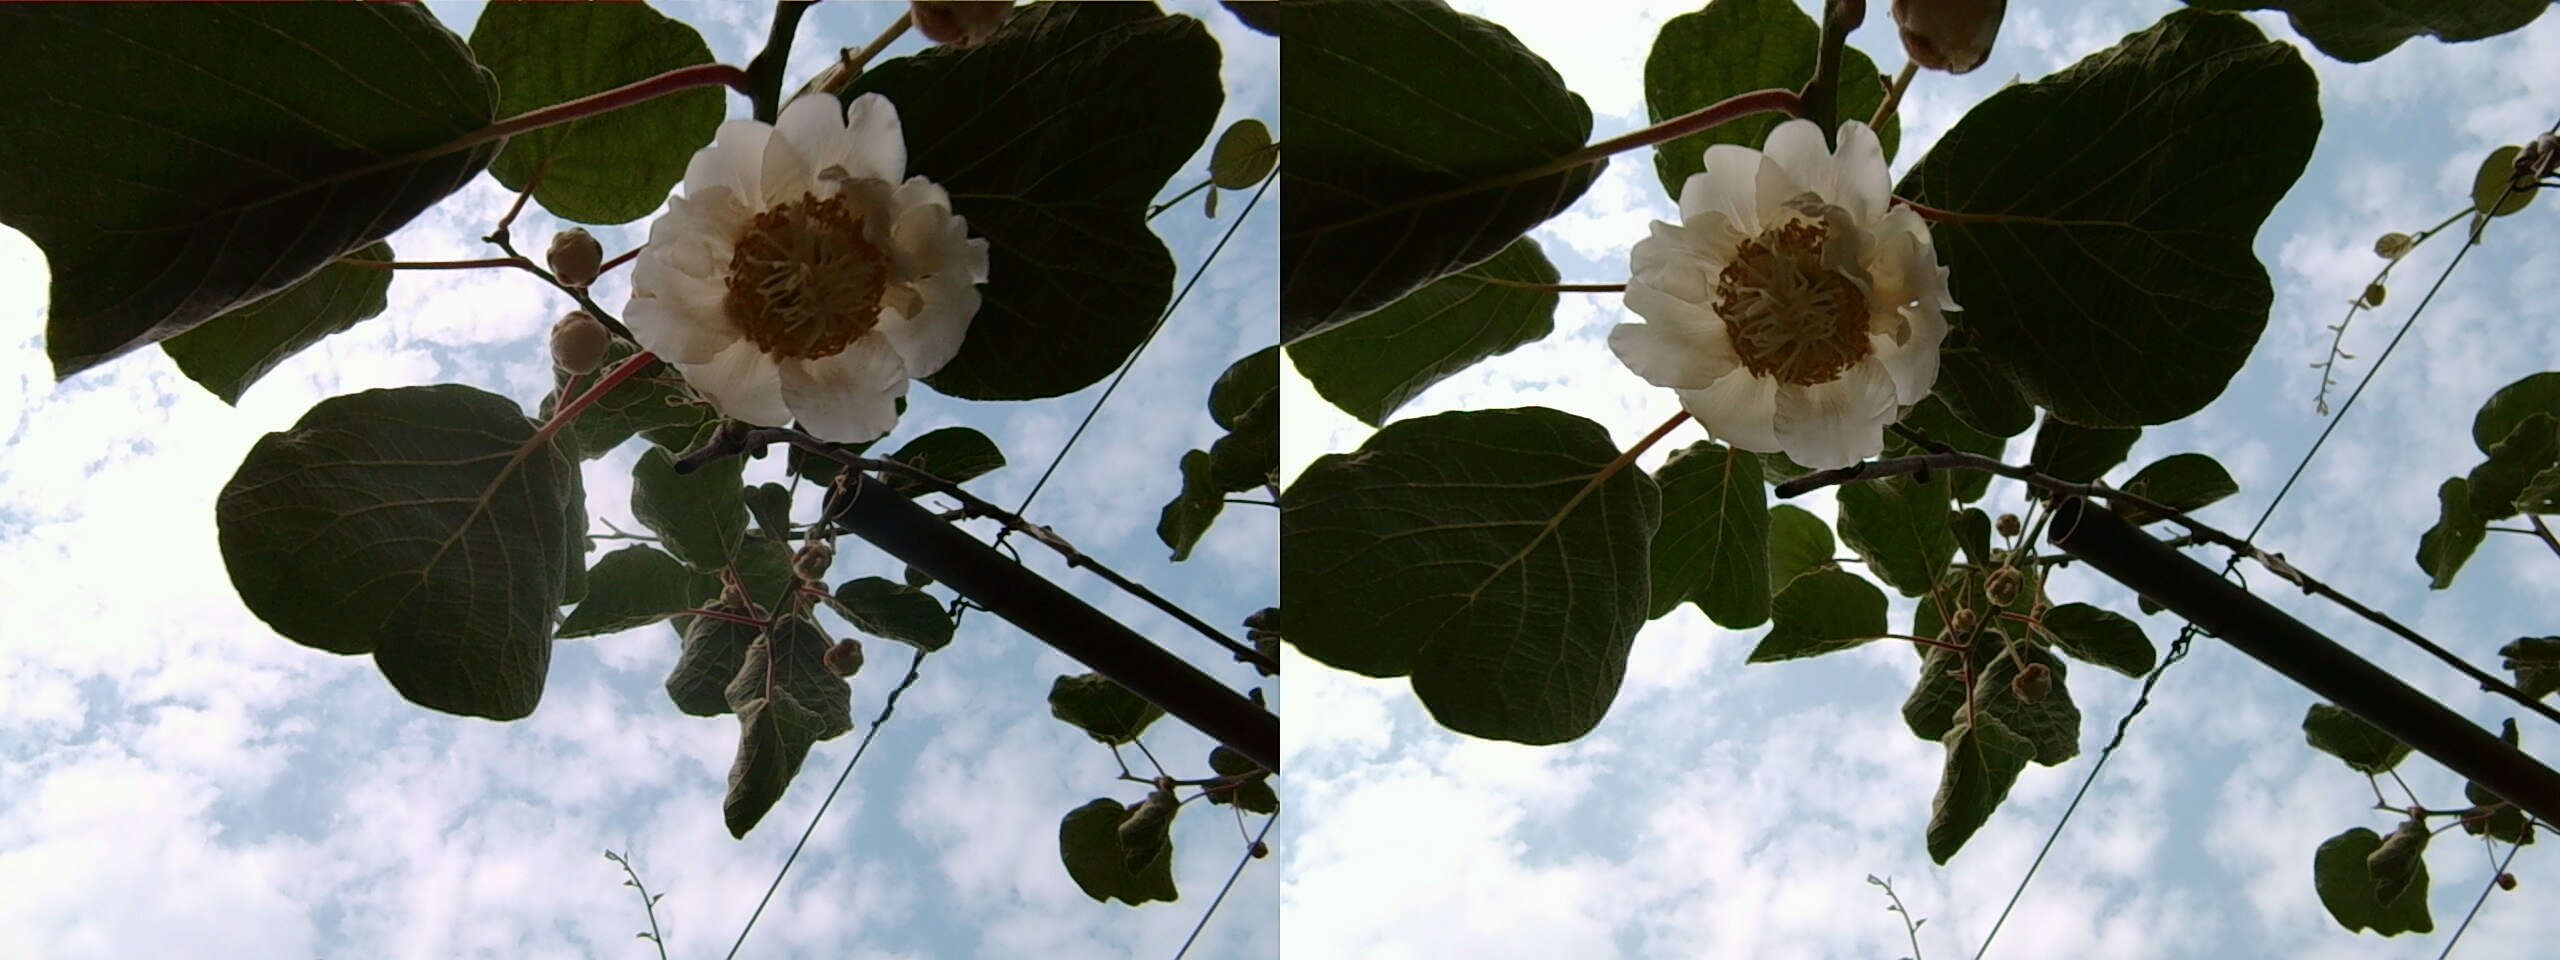flower: (643, 108, 963, 429), (1626, 132, 1935, 451)
